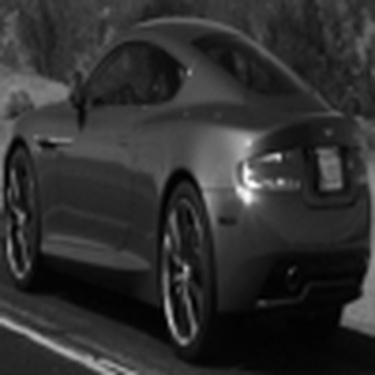car: (4, 1, 373, 370)
